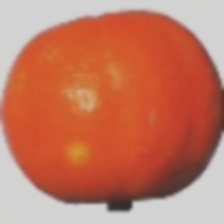tangerine: (22, 29, 224, 216)
